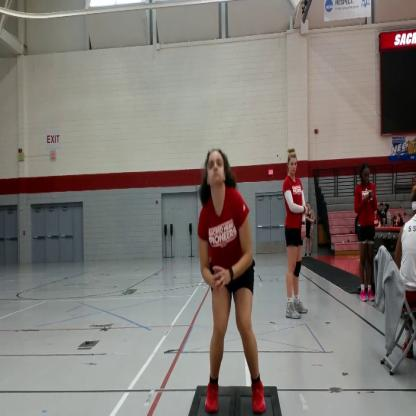lateral_flexion_right: (196, 144, 268, 416)
stance_width_broad: (197, 184, 268, 416)
